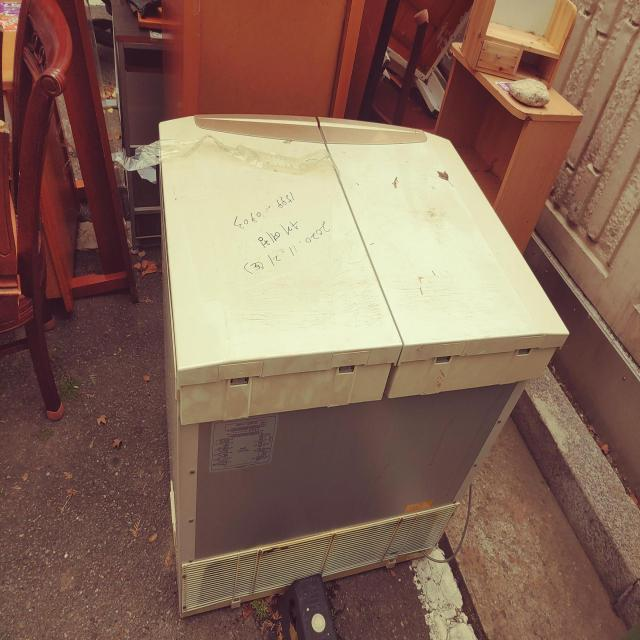refrigerator: (158, 107, 573, 624)
